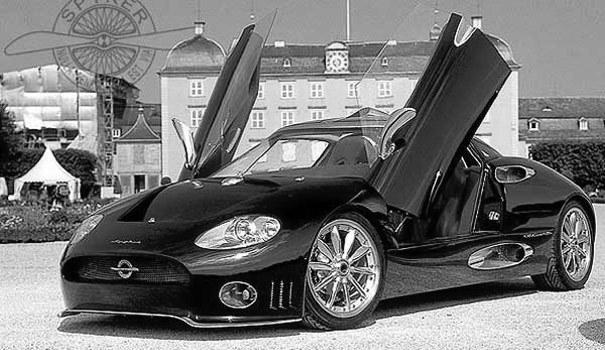car: (58, 5, 601, 336)
